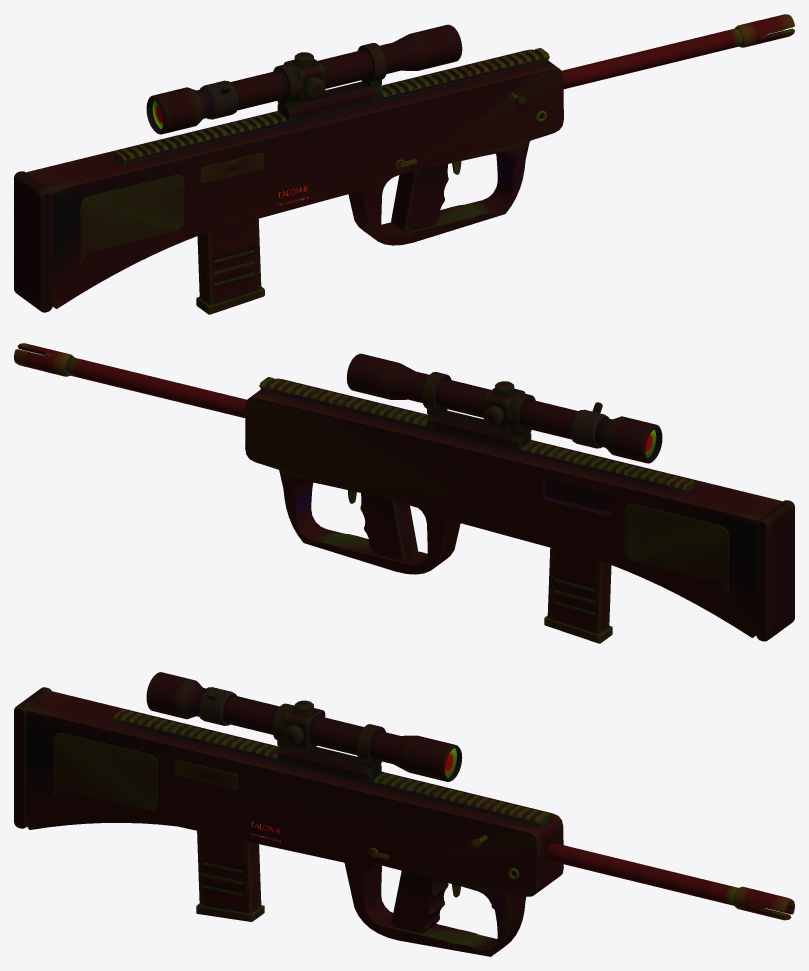
The model's file is talonb.glb.
3 views of the same model, one above another, from view 1: azimuth 30°, elevation 25°; view 2: azimuth 150°, elevation 25°; view 3: azimuth 330°, elevation 25° (orthographic).
Visible parts, largest first — view 1: base; view 2: base; view 3: base.
Part boxes in pixels (x1,y1,x2,y2): base: (14,14,794,314); base: (14,343,794,643); base: (14,672,794,956).
Bounding box in the file's own units: 0.905 × 0.2609 × 0.082.
